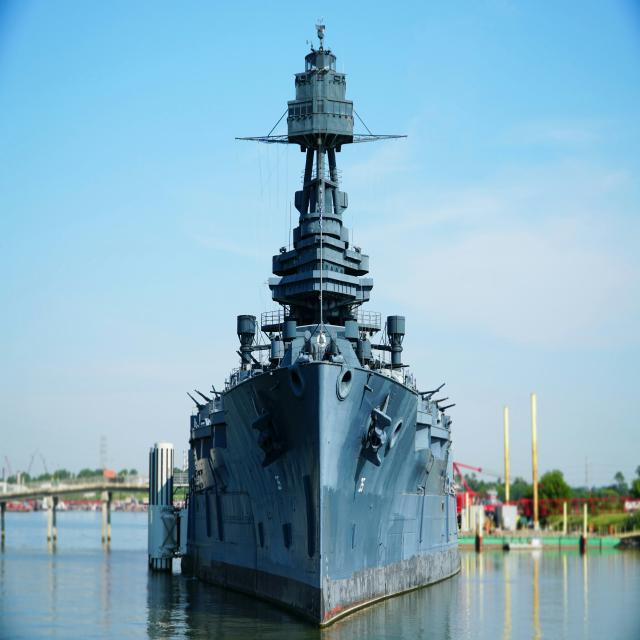Landing-Ship-Shardul-Class-IND: (186, 9, 462, 632)
